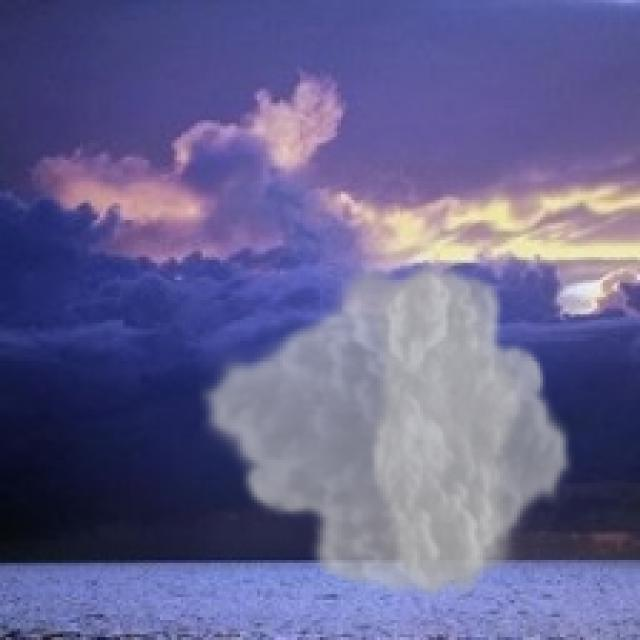Smoke: (197, 254, 574, 606)
